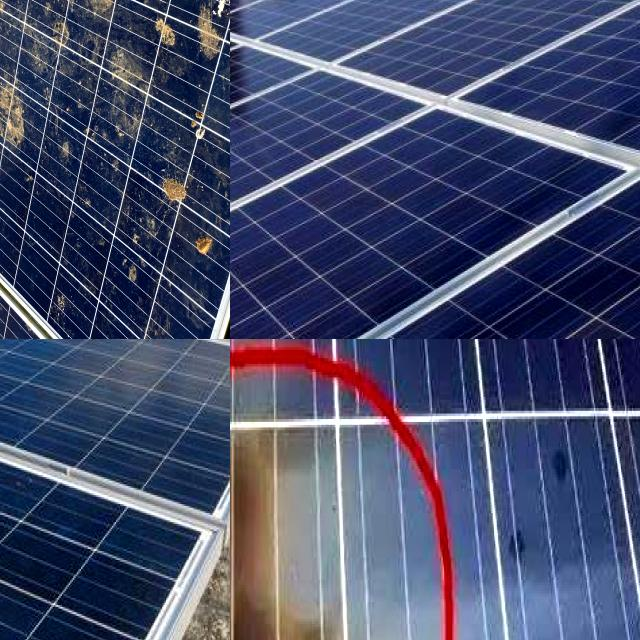bird: (0, 59, 81, 186), (110, 28, 203, 112), (130, 130, 190, 248), (72, 206, 144, 303), (0, 252, 64, 321), (0, 193, 36, 253), (65, 324, 120, 339)
crack: (230, 0, 640, 339), (230, 87, 636, 337), (0, 339, 230, 540), (0, 339, 230, 436), (59, 339, 230, 393)
shadow: (230, 415, 383, 640)
